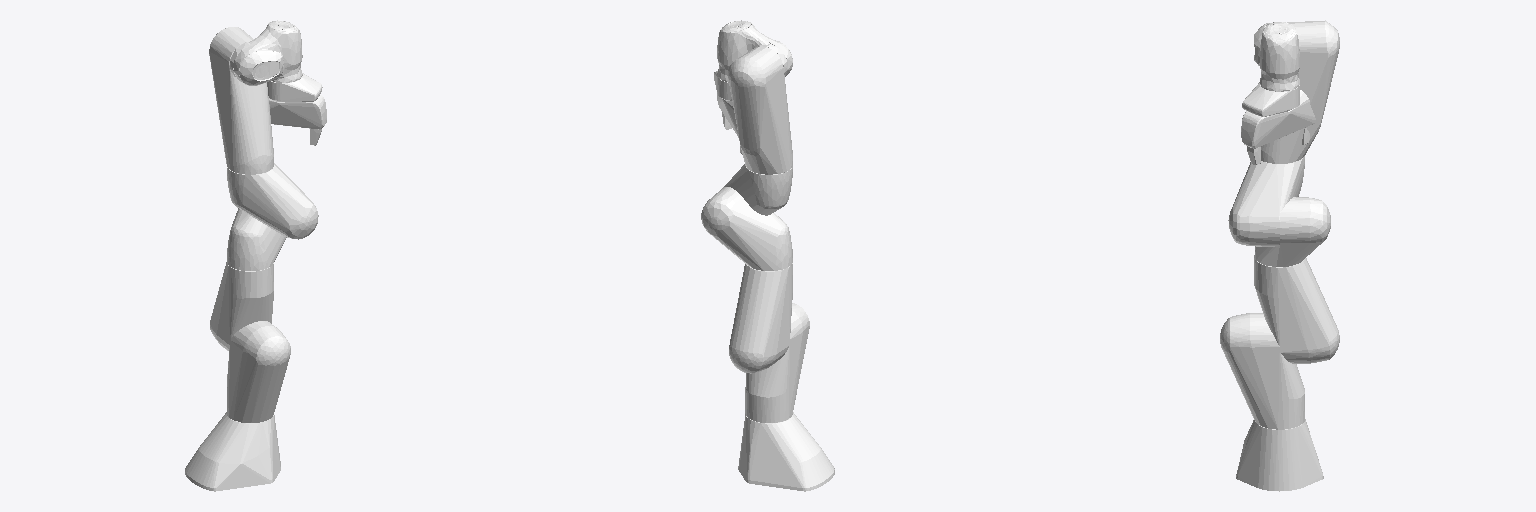
robot.urdf — panda:
<?xml version="1.0" ?>
<!-- =================================================================================== -->
<!-- |    This document was autogenerated by xacro from panda_arm_hand.urdf.xacro      | -->
<!-- |    EDITING THIS FILE BY HAND IS NOT RECOMMENDED                                 | -->
<!-- =================================================================================== -->
<robot name="panda" xmlns:xacro="http://www.ros.org/wiki/xacro">
  <link name="panda_link0">
  	<inertial>
      <origin rpy="0 0 0" xyz="0 0 0.05"/>
       <mass value="2.9"/>
       <inertia ixx="0.1" ixy="0" ixz="0" iyy="0.1" iyz="0" izz="0.1"/>
    </inertial>
    <visual>
      <geometry>
        <mesh filename="package://percept_core/assets/panda/meshes/collision/link0.obj"/>
      </geometry>
      <material name="panda_white">
    		<color rgba="1. 1. 1. 1."/>
  		</material>
    </visual>
    <collision>
      <geometry>
        <mesh filename="package://percept_core/assets/panda/meshes/collision/link0.obj"/>
      </geometry>
      <material name="panda_white"/>
    </collision>
  </link>
  <link name="panda_link1">
  	<inertial>
      <origin rpy="0 0 0" xyz="0 -0.04 -0.05"/>
       <mass value="2.7"/>
       <inertia ixx="0.1" ixy="0" ixz="0" iyy="0.1" iyz="0" izz="0.1"/>
    </inertial>
    <visual>
      <geometry>
        <mesh filename="package://percept_core/assets/panda/meshes/visual/link1.obj"/>
      </geometry>
      <material name="panda_white"/>
    </visual>
    <collision>
      <geometry>
        <mesh filename="package://percept_core/assets/panda/meshes/collision/link1.obj"/>
      </geometry>
      <material name="panda_white"/>
    </collision>
  </link>
  <joint name="panda_joint1" type="revolute">
    <safety_controller k_position="100.0" k_velocity="40.0" soft_lower_limit="-2.8973" soft_upper_limit="2.8973"/>
    <origin rpy="0 0 0" xyz="0 0 0.333"/>
    <parent link="panda_link0"/>
    <child link="panda_link1"/>
    <axis xyz="0 0 1"/>
        <limit effort="87" lower="-2.9671" upper="2.9671" velocity="2.3925" />
  </joint>
  <link name="panda_link2">
  	<inertial>
      <origin rpy="0 0 0" xyz="0 -0.04 0.06"/>
       <mass value="2.73"/>
       <inertia ixx="0.1" ixy="0" ixz="0" iyy="0.1" iyz="0" izz="0.1"/>
    </inertial>
    <visual>
      <geometry>
        <mesh filename="package://percept_core/assets/panda/meshes/visual/link2.obj"/>
      </geometry>
      <material name="panda_white"/>
    </visual>
    <collision>
      <geometry>
        <mesh filename="package://percept_core/assets/panda/meshes/collision/link2.obj"/>
      </geometry>
      <material name="panda_white"/>
    </collision>
  </link>
  <joint name="panda_joint2" type="revolute">
    <safety_controller k_position="100.0" k_velocity="40.0" soft_lower_limit="-1.7628" soft_upper_limit="1.7628"/>
    <origin rpy="-1.57079632679 0 0" xyz="0 0 0"/>
    <parent link="panda_link1"/>
    <child link="panda_link2"/>
    <axis xyz="0 0 1"/>
        <limit effort="87" lower="-1.8326" upper="1.8326" velocity="2.3925" />
  </joint>
  <link name="panda_link3">
	  <inertial>
      <origin rpy="0 0 0" xyz="0.01 0.01 -0.05"/>
       <mass value="2.04"/>
       <inertia ixx="0.1" ixy="0" ixz="0" iyy="0.1" iyz="0" izz="0.1"/>
    </inertial>
    <visual>
      <geometry>
        <mesh filename="package://percept_core/assets/panda/meshes/visual/link3.obj"/>
      </geometry>
      <material name="panda_red">
    		<color rgba="1. 1. 1. 1."/>
  		</material>
    </visual>
    <collision>
      <geometry>
        <mesh filename="package://percept_core/assets/panda/meshes/collision/link3.obj"/>
      </geometry>
    </collision>
  </link>
  <joint name="panda_joint3" type="revolute">
    <safety_controller k_position="100.0" k_velocity="40.0" soft_lower_limit="-2.8973" soft_upper_limit="2.8973"/>
    <origin rpy="1.57079632679 0 0" xyz="0 -0.316 0"/>
    <parent link="panda_link2"/>
    <child link="panda_link3"/>
    <axis xyz="0 0 1"/>
        <limit effort="87" lower="-2.9671" upper="2.9671" velocity="2.3925" />
  </joint>
  <link name="panda_link4">
  	<inertial>
      <origin rpy="0 0 0" xyz="-0.03 0.03 0.02"/>
       <mass value="2.08"/>
       <inertia ixx="0.1" ixy="0" ixz="0" iyy="0.1" iyz="0" izz="0.1"/>
    </inertial>
    <visual>
      <geometry>
        <mesh filename="package://percept_core/assets/panda/meshes/visual/link4.obj"/>
      </geometry>
      <material name="panda_white"/>
    </visual>
    <collision>
      <geometry>
        <mesh filename="package://percept_core/assets/panda/meshes/collision/link4.obj"/>
      </geometry>
      <material name="panda_white"/>
    </collision>
  </link>
  <joint name="panda_joint4" type="revolute">
    <safety_controller k_position="100.0" k_velocity="40.0" soft_lower_limit="-3.0718" soft_upper_limit="-0.0698"/>
    <origin rpy="1.57079632679 0 0" xyz="0.0825 0 0"/>
    <parent link="panda_link3"/>
    <child link="panda_link4"/>
    <axis xyz="0 0 1"/>
        <limit effort="87" lower="-3.1416" upper="0.0873" velocity="2.3925" />
  </joint>
  <link name="panda_link5">
  	<inertial>
      <origin rpy="0 0 0" xyz="0 0.04 -0.12"/>
       <mass value="3"/>
       <inertia ixx="0.1" ixy="0" ixz="0" iyy="0.1" iyz="0" izz="0.1"/>
    </inertial>
    <visual>
      <geometry>
        <mesh filename="package://percept_core/assets/panda/meshes/visual/link5.obj"/>
      </geometry>
      <material name="panda_white"/>
    </visual>
    <collision>
      <geometry>
        <mesh filename="package://percept_core/assets/panda/meshes/collision/link5.obj"/>
      </geometry>
      <material name="panda_white"/>
    </collision>
  </link>
  <joint name="panda_joint5" type="revolute">
    <safety_controller k_position="100.0" k_velocity="40.0" soft_lower_limit="-2.8973" soft_upper_limit="2.8973"/>
    <origin rpy="-1.57079632679 0 0" xyz="-0.0825 0.384 0"/>
    <parent link="panda_link4"/>
    <child link="panda_link5"/>
    <axis xyz="0 0 1"/>
        <limit effort="12" lower="-2.9671" upper="2.9671" velocity="2.8710" />
  </joint>
  <link name="panda_link6">
  	<inertial>
      <origin rpy="0 0 0" xyz="0.04 0 0"/>
       <mass value="1.3"/>
       <inertia ixx="0.1" ixy="0" ixz="0" iyy="0.1" iyz="0" izz="0.1"/>
    </inertial>
    <visual>
      <geometry>
        <mesh filename="package://percept_core/assets/panda/meshes/visual/link6.obj"/>
      </geometry>
      <material name="panda_white"/>
    </visual>
    <collision>
      <geometry>
        <mesh filename="package://percept_core/assets/panda/meshes/collision/link6.obj"/>
      </geometry>
      <material name="panda_white"/>
    </collision>
  </link>
  <joint name="panda_joint6" type="revolute">
    <safety_controller k_position="100.0" k_velocity="40.0" soft_lower_limit="-0.0175" soft_upper_limit="3.7525"/>
    <origin rpy="1.57079632679 0 0" xyz="0 0 0"/>
    <parent link="panda_link5"/>
    <child link="panda_link6"/>
    <axis xyz="0 0 1"/>
        <limit effort="12" lower="-0.0873" upper="3.8223" velocity="2.8710" />
  </joint>
  <link name="panda_link7">
  	<inertial>
      <origin rpy="0 0 0" xyz="0 0 0.08"/>
       <mass value=".2"/>
       <inertia ixx="0.1" ixy="0" ixz="0" iyy="0.1" iyz="0" izz="0.1"/>
    </inertial>
    <visual>
      <geometry>
        <mesh filename="package://percept_core/assets/panda/meshes/collision/link7.obj"/>
      </geometry>
      <material name="panda_white"/>
    </visual>
    <collision>
      <geometry>
        <mesh filename="package://percept_core/assets/panda/meshes/collision/link7.obj"/>
      </geometry>
      <material name="panda_white"/>
    </collision>
  </link>
  <joint name="panda_joint7" type="revolute">
    <safety_controller k_position="100.0" k_velocity="40.0" soft_lower_limit="-2.8973" soft_upper_limit="2.8973"/>
    <origin rpy="1.57079632679 0 0" xyz="0.088 0 0"/>
    <parent link="panda_link6"/>
    <child link="panda_link7"/>
    <axis xyz="0 0 1"/>
        <limit effort="12" lower="-2.9671" upper="2.9671" velocity="2.8710" />
  </joint>
  <link name="panda_link8">
  	 <inertial>
      <origin rpy="0 0 0" xyz="0 0 0"/>
       <mass value="0.0"/>
       <inertia ixx="0.1" ixy="0" ixz="0" iyy="0.1" iyz="0" izz="0.1"/>
    </inertial>
  </link>
  <joint name="panda_joint8" type="fixed">
    <origin rpy="0 0 0" xyz="0 0 0.107"/>
    <parent link="panda_link7"/>
    <child link="panda_link8"/>
    <axis xyz="0 0 0"/>
  </joint>
  <joint name="panda_hand_joint" type="fixed">
    <parent link="panda_link8"/>
    <child link="panda_hand"/>
    <origin rpy="0 0 -0.785398163397" xyz="0 0 0"/>
  </joint>
  <link name="panda_hand">
  	<inertial>
      <origin rpy="0 0 0" xyz="0 0 0.04"/>
       <mass value=".81"/>
       <inertia ixx="0.1" ixy="0" ixz="0" iyy="0.1" iyz="0" izz="0.1"/>
    </inertial>
    <visual>
      <geometry>
        <mesh filename="package://percept_core/assets/panda/meshes/visual/hand.obj"/>
      </geometry>
      <material name="panda_white"/>
    </visual>
    <collision>
      <geometry>
        <mesh filename="package://percept_core/assets/panda/meshes/collision/hand.obj"/>
      </geometry>
      <material name="panda_white"/>
    </collision>
  </link>
  <link name="panda_leftfinger">
       <contact>
      <friction_anchor/>
      <stiffness value="30000.0"/>
      <damping value="1000.0"/>
      <spinning_friction value="0.1"/>
      <lateral_friction value="1.0"/>
    </contact>
  	<inertial>
      <origin rpy="0 0 0" xyz="0 0.01 0.02"/>
       <mass value="0.1"/>
       <inertia ixx="0.1" ixy="0" ixz="0" iyy="0.1" iyz="0" izz="0.1"/>
    </inertial>
    <visual>
      <geometry>
        <mesh filename="package://percept_core/assets/panda/meshes/visual/finger.obj"/>
      </geometry>
      <material name="panda_white"/>
    </visual>
    <collision>
      <geometry>
        <mesh filename="package://percept_core/assets/panda/meshes/collision/finger.obj"/>
      </geometry>
      <material name="panda_white"/>
    </collision>
  </link>
  <link name="panda_rightfinger">
        <contact>
      <friction_anchor/>
      <stiffness value="30000.0"/>
      <damping value="1000.0"/>
      <spinning_friction value="0.1"/>
      <lateral_friction value="1.0"/>
    </contact>

  	<inertial>
      <origin rpy="0 0 0" xyz="0 -0.01 0.02"/>
       <mass value="0.1"/>
       <inertia ixx="0.1" ixy="0" ixz="0" iyy="0.1" iyz="0" izz="0.1"/>
    </inertial>
    <visual>
      <origin rpy="0 0 3.14159265359" xyz="0 0 0"/>
      <geometry>
        <mesh filename="package://percept_core/assets/panda/meshes/visual/finger.obj"/>
      </geometry>
      <material name="panda_white"/>
    </visual>
    <collision>
      <origin rpy="0 0 3.14159265359" xyz="0 0 0"/>
      <geometry>
        <mesh filename="package://percept_core/assets/panda/meshes/collision/finger.obj"/>
      </geometry>
      <material name="panda_white"/>
    </collision>
  </link>
	<joint name="panda_finger_joint1" type="fixed">
		<parent link="panda_hand"></parent>
		<child link="panda_leftfinger"></child>
		<origin rpy="0 0 0" xyz="0 0.065 0.0584"></origin>
		<axis xyz="0 1 0"></axis>
	</joint>
	<joint name="panda_finger_joint2" type="fixed">
		<parent link="panda_hand"></parent>
		<child link="panda_rightfinger"></child>
		<origin rpy="0 0 0" xyz="0 -0.065 0.0584"></origin>
		<axis xyz="0 -1 0"></axis>
		<mimic joint="panda_finger_joint1"></mimic>
	</joint>
   <link name="panda_grasptarget">
 <inertial>
      <origin rpy="0 0 0" xyz="0 0 0"/>
       <mass value="0.0"/>
       <inertia ixx="0.1" ixy="0" ixz="0" iyy="0.1" iyz="0" izz="0.1"/>
    </inertial>
   </link>
   <joint name="panda_grasptarget_hand" type="fixed">
    <parent link="panda_hand"/>
    <child link="panda_grasptarget"/>
    <origin rpy="0 0 0" xyz="0 0 0.105"/>
  </joint>
  
</robot>

--- Facts derived from the render (not from the file) ---
The picture shows the robot from 3 angles, left to right: view 1: azimuth 30°, elevation 25°; view 2: azimuth 150°, elevation 25°; view 3: azimuth 270°, elevation 25°; orthographic projection.
Robot: panda — 13 links, 12 joints (7 revolute, 5 fixed); root link panda_link0; default pose: all joints at 0.
Visible links, largest first — view 1: panda_link5, panda_link0, panda_link1, panda_link4, panda_link2, panda_link6, panda_link3, panda_hand, panda_link7; view 2: panda_link5, panda_link2, panda_link0, panda_link3, panda_link1, panda_link6, panda_link4; view 3: panda_link1, panda_link2, panda_link0, panda_link4, panda_link5, panda_link3, panda_link6, panda_hand, panda_link7.
Link boxes in pixels (<box>): panda_link5: <box>209,27,273,174</box>; panda_link0: <box>185,412,280,491</box>; panda_link1: <box>227,321,290,422</box>; panda_link4: <box>227,163,318,239</box>; panda_link2: <box>210,262,273,350</box>; panda_link6: <box>230,20,302,85</box>; panda_link3: <box>227,208,286,270</box>; panda_hand: <box>269,95,326,129</box>; panda_link7: <box>267,73,322,101</box>; panda_link5: <box>728,46,792,174</box>; panda_link2: <box>729,263,792,373</box>; panda_link0: <box>738,412,834,491</box>; panda_link3: <box>701,187,792,270</box>; panda_link1: <box>745,303,809,422</box>; panda_link6: <box>717,20,792,82</box>; panda_link4: <box>724,164,792,215</box>; panda_link1: <box>1220,313,1304,429</box>; panda_link2: <box>1254,258,1339,363</box>; panda_link0: <box>1236,419,1323,491</box>; panda_link4: <box>1228,156,1304,246</box>; panda_link5: <box>1261,20,1339,163</box>; panda_link3: <box>1254,197,1330,266</box>; panda_link6: <box>1254,22,1299,91</box>; panda_hand: <box>1241,90,1315,148</box>; panda_link7: <box>1242,83,1299,116</box>.
Size in the robot's own frame: 0.3253 by 0.2593 by 1.11 metres.
11 mesh visuals loaded from 10 distinct referenced files (10 OBJ).